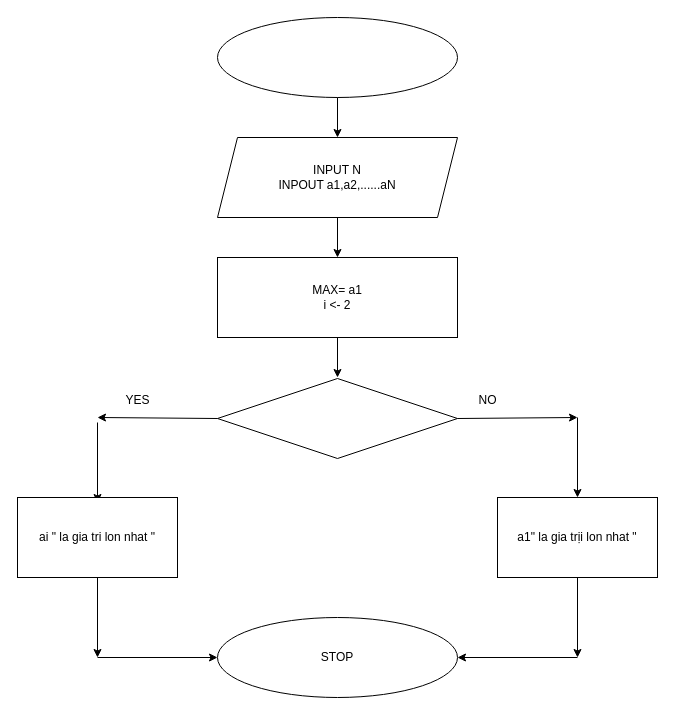
Image size: 675x715. Some labels were removed from this diagram. The shapes that lost their labels are listed below. From the top down, each one's centre as x and y in pixels, then its label:
At [337,57]: "BEGIN".
At [337,418]: "ai > a1 i < N".
